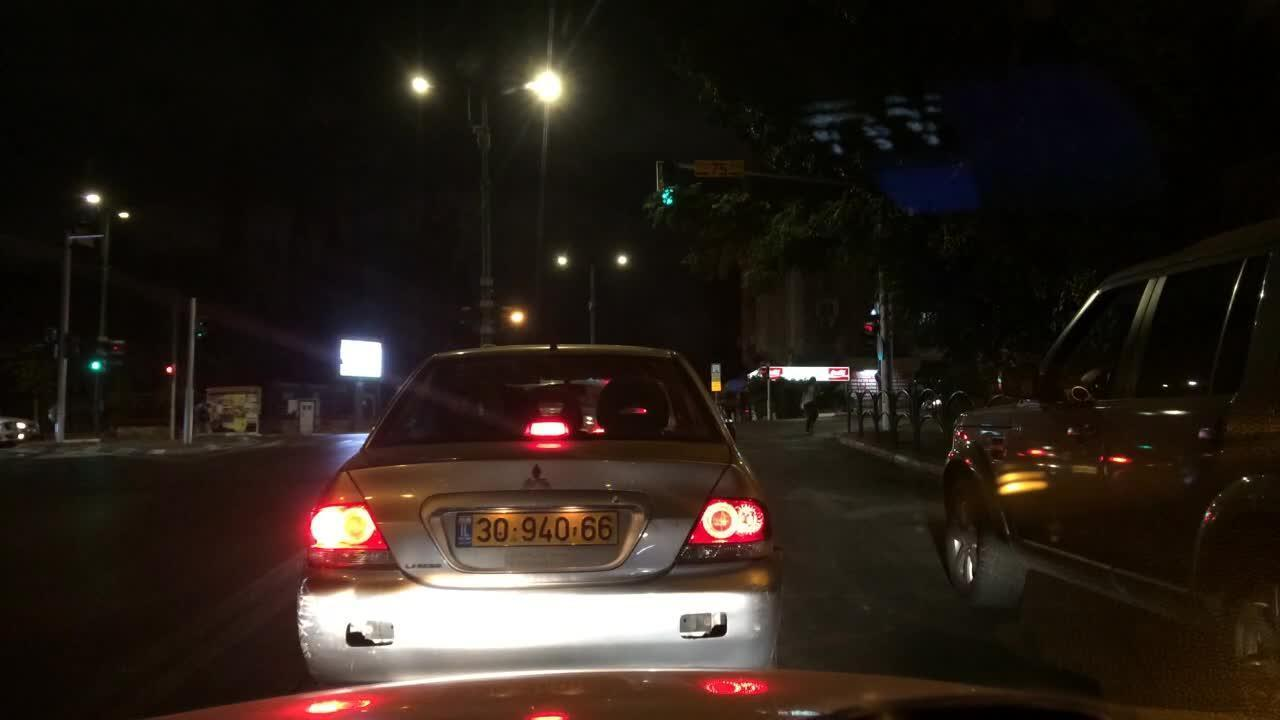Mitsubishi: (517, 458, 555, 498)
